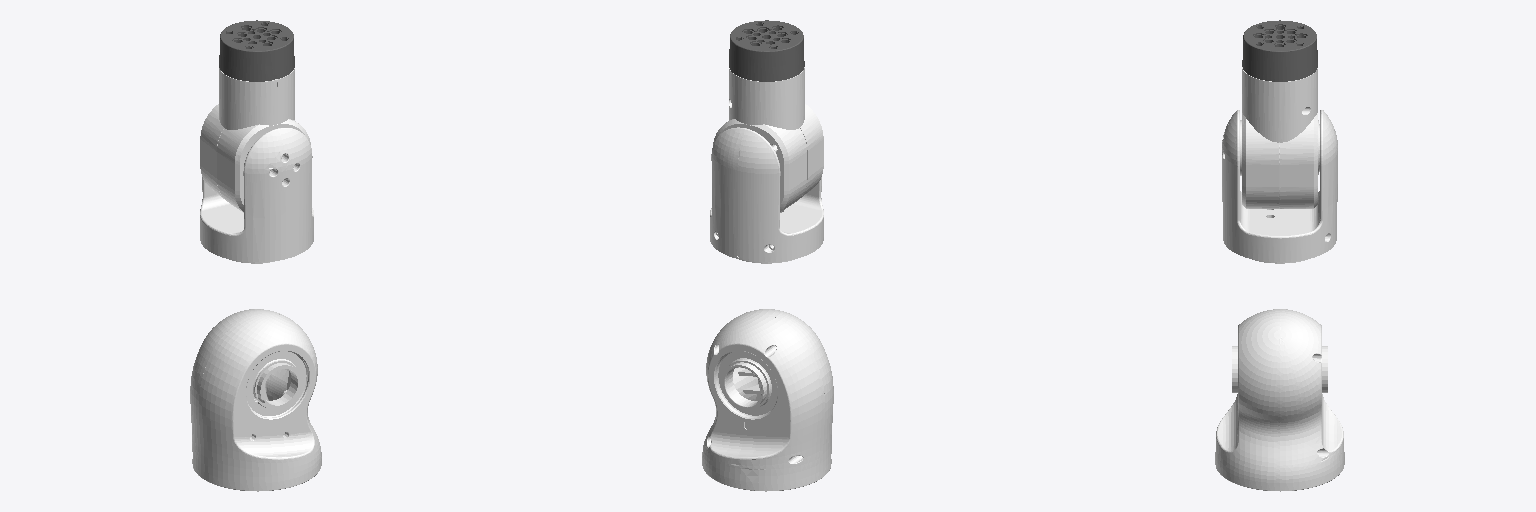
URDF robot description (myarm_300_pi):
<?xml version="1.0" ?>
<!-- =================================================================================== -->
<!-- |    This document was autogenerated by xacro from myarm_300_pi_rod.urdf          | -->
<!-- |    EDITING THIS FILE BY HAND IS NOT RECOMMENDED                                 | -->
<!-- =================================================================================== -->
<robot name="myarm_300_pi">

  <!-- Links definitions -->

  <link name="base">
    <visual>
      <geometry>
        <mesh filename="package://myarm_300_pi/meshes/base.dae"/>
      </geometry>
      <origin rpy=" 0 0 0" xyz="0.0 0 0 "/>
    </visual>
    <collision>
      <geometry>
        <mesh filename="package://myarm_300_pi/meshes/base.dae"/>
      </geometry>
      <origin rpy=" 0 0 0" xyz="0.0 0 0 "/>
    </collision>
  </link>

  <link name="link1">
    <visual>
      <geometry>
        <mesh filename="package://myarm_300_pi/meshes/j1.dae"/>
      </geometry>
      <origin rpy=" 0 0 0" xyz="0.0 0 -0.086 "/>
    </visual>
    <collision>
      <geometry>
        <mesh filename="package://myarm_300_pi/meshes/j1.dae"/>
      </geometry>
      <origin rpy=" 0 0 0" xyz="0.0 0 -0.086 "/>
    </collision>
  </link>

  <link name="link2">
    <visual>
      <geometry>
        <mesh filename="package://myarm_300_pi/meshes/j2.dae"/>
      </geometry>
      <origin rpy=" 3.14159 0 -1.5708 " xyz="0.0 0 0.0 "/>
    </visual>
    <collision>
      <geometry>
        <mesh filename="package://myarm_300_pi/meshes/j2.dae"/>
      </geometry>
      <origin rpy=" 3.14159 0 -1.5708" xyz="0.0 0 0.0 "/>
    </collision>
  </link>

  <link name="link3">
    <visual>
      <geometry>
        <mesh filename="package://myarm_300_pi/meshes/j3.dae"/>
      </geometry>
      <origin rpy=" 0 0 0" xyz="0.0 0 -0.056 "/>
    </visual>
    <collision>
      <geometry>
        <mesh filename="package://myarm_300_pi/meshes/j3.dae"/>
      </geometry>
      <origin rpy=" 0 0 0" xyz="0.0 0 -0.056"/>
    </collision>
  </link>

  <link name="link4">
    <visual>
      <geometry>
        <mesh filename="package://myarm_300_pi/meshes/j4.dae"/>
      </geometry>
      <origin rpy="0 0 1.5708" xyz="0.0 0.000 0 "/>
    </visual>
    <collision>
      <geometry>
        <mesh filename="package://myarm_300_pi/meshes/j4.dae"/>
      </geometry>
      <origin rpy="0 0 1.5708" xyz="0.0 0.000 0 "/>
    </collision>
  </link>

  <link name="link5">
    <visual>
      <geometry>
        <mesh filename="package://myarm_300_pi/meshes/j5.dae"/>
      </geometry>
      <origin rpy=" 0 0 0" xyz="0 0.00 -0.0525 "/>
    </visual>
    <collision>
      <geometry>
        <mesh filename="package://myarm_300_pi/meshes/j5.dae"/>
      </geometry>
      <origin rpy=" 0 0 0" xyz="0 0.00 -0.0525 "/>
    </collision>
  </link>

  <link name="link6">
    <visual>
      <geometry>
        <mesh filename="package://myarm_300_pi/meshes/j6.dae"/>
      </geometry>
      <origin rpy=" 0 0 1.5708" xyz="0.0 0.000 -0.0 "/>
    </visual>
    <collision>
      <geometry>
        <mesh filename="package://myarm_300_pi/meshes/j6.dae"/>
      </geometry>
      <origin rpy=" 0 0 1.5708" xyz="0.0 0.000 -0.0 "/>
    </collision>
  </link>

  <link name="link7">
    <visual>
      <geometry>
        <mesh filename="package://myarm_300_pi/meshes/j7.dae"/>
      </geometry>
      <origin rpy=" 0 0 0" xyz="0.0002 -0.0002 -0.0185 "/>
    </visual>
    <collision>
      <geometry>
        <mesh filename="package://myarm_300_pi/meshes/j7.dae"/>
      </geometry>
      <origin rpy=" 0 0 0" xyz="0.0002 -0.0002 -0.0185 "/>
    </collision>
  </link>

  <link name="endeffector">  <!-- End-effector dummy link -->
    <!-- No visual or collision needed, just a reference frame -->
  </link>

  <!-- Joints definitions -->

  <joint name="joint1" type="revolute">
    <axis xyz="0 0 1"/>
    <limit effort="1000.0" lower="-2.7925" upper="2.7925" velocity="0"/>
    <parent link="base"/>
    <child link="link1"/>
    <origin rpy="0 0 0" xyz="0 0 0.1695"/>
  </joint>

  <joint name="joint2" type="revolute">
    <axis xyz="0 0 1"/>
    <limit effort="1000.0" lower="-1.2217" upper="2.0071" velocity="0"/>
    <parent link="link1"/>
    <child link="link2"/>
    <!-- <origin xyz= "0 0  0" rpy = "1.5708 3.14159 0"/>   -->
    <origin rpy="-1.5708 0 0" xyz="0 0  0"/>
  </joint>

  <joint name="joint3" type="revolute">
    <axis xyz=" 0 0 1"/>
    <limit effort="1000.0" lower="-2.9670" upper="2.9670" velocity="0"/>
    <parent link="link2"/>
    <child link="link3"/>
    <origin rpy="1.5708 0 0" xyz="0 -0.1155 0   "/>
  </joint>

  <joint name="joint4" type="revolute">
    <axis xyz=" 0 0 1"/>
    <limit effort="1000.0" lower="-1.9722" upper="1.3089" velocity="0"/>
    <parent link="link3"/>
    <child link="link4"/>
    <origin rpy="1.5708 0 0" xyz="0.0 0 0.0"/>
  </joint>

  <joint name="joint5" type="revolute">
    <axis xyz="0 0 1"/>
    <limit effort="1000.0" lower="-2.9670" upper="2.9670" velocity="0"/>
    <parent link="link4"/>
    <child link="link5"/>
    <origin rpy="-1.5708 0 0" xyz="0 0.1278 0"/>
  </joint>

  <joint name="joint6" type="revolute">
    <axis xyz="0 0 1"/>
    <limit effort="1000.0" lower="-2.0071" upper="2.0071" velocity="0"/>
    <parent link="link5"/>
    <child link="link6"/>
    <origin rpy="1.5708 0 0" xyz="0 0.0 0"/>
  </joint>

  <joint name="joint7" type="revolute">
    <axis xyz="0 0 1"/>
    <limit effort="1000.0" lower="-3.14159" upper="3.14159" velocity="0"/>
    <parent link="link6"/>
    <child link="link7"/>
    <origin rpy="-1.5708 0 0" xyz="0 0.066 0"/>
  </joint>

  <joint name="link7_to_endeffector" type="fixed">  <!-- Fixed transform from link7 to end-effector dummy link -->
    <parent link="link7"/>
    <child link="endeffector"/>
    <origin rpy="0 0 0" xyz="0 0.0 0"/>
  </joint>
</robot>

--- Facts derived from the render (not from the file) ---
3 views of the same robot in one strip: view 1: azimuth 30°, elevation 25°; view 2: azimuth 150°, elevation 25°; view 3: azimuth 270°, elevation 25° (orthographic).
Model myarm_300_pi with 9 links and 8 joints (7 revolute, 1 fixed), rooted at base, posed all joints at 0.
Visible links, largest first — view 1: link3, link5, link6, link7; view 2: link3, link5, link6, link7; view 3: link3, link6, link5, link7.
Boxes of the visible links, x1,y1,x2,y2 form: link3: [190, 309, 321, 491]; link5: [200, 128, 313, 263]; link6: [200, 68, 310, 212]; link7: [219, 20, 294, 81]; link3: [702, 309, 833, 491]; link5: [710, 127, 823, 263]; link6: [713, 67, 823, 211]; link7: [729, 20, 804, 81]; link3: [1215, 309, 1344, 491]; link6: [1240, 67, 1319, 208]; link5: [1222, 110, 1337, 263]; link7: [1242, 20, 1317, 81].
Size in the robot's own frame: 0.0694 by 0.068 by 0.2489 metres.
Meshes: 8 distinct files referenced, 4 mesh visuals loaded (4 Collada DAE); not drawn: 4 (reference not matched to a file when rendering).
